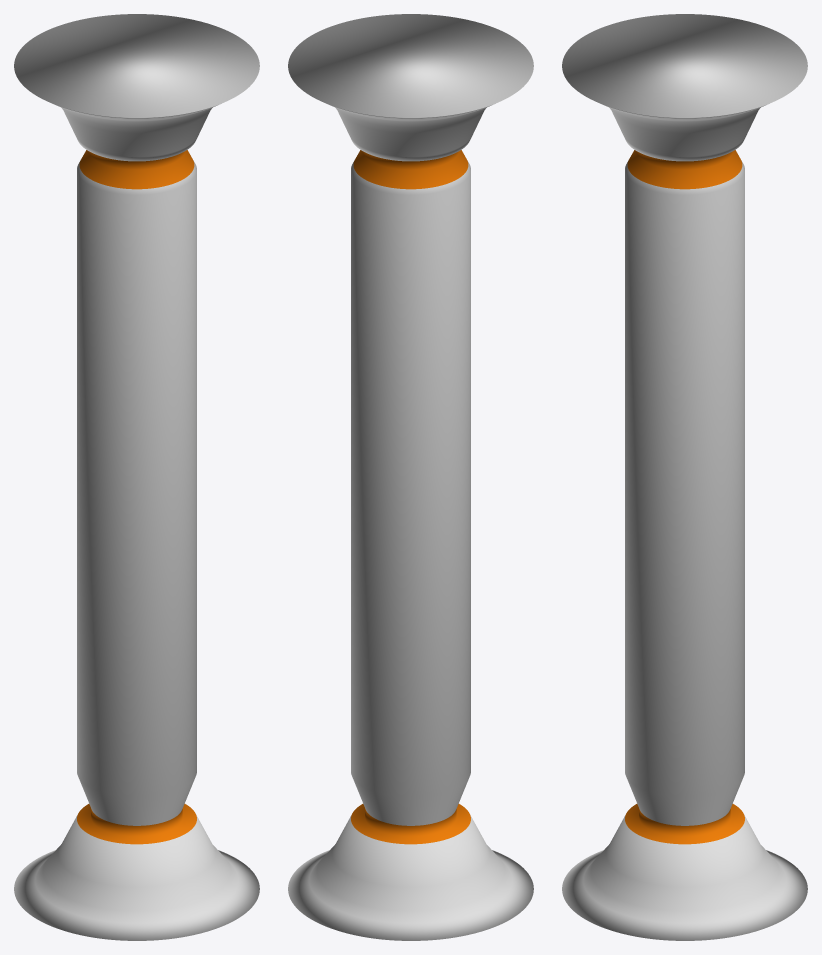
File: Pillar.fbx
The picture shows the model from 3 angles, left to right: view 1: azimuth 30°, elevation 25°; view 2: azimuth 150°, elevation 25°; view 3: azimuth 270°, elevation 25°; orthographic projection.
Parts seen in each view (by area): view 1: Cylinder; view 2: Cylinder; view 3: Cylinder.
Boxes of the visible parts, x1,y1,x2,y2 form: Cylinder: [14, 14, 259, 940]; Cylinder: [288, 14, 533, 940]; Cylinder: [562, 14, 807, 940].
Bounding box in the file's own units: 164 × 164 × 605.
